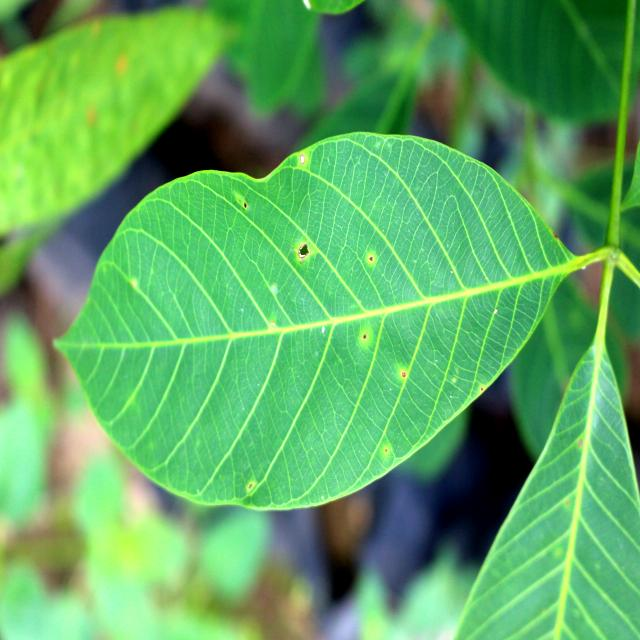Colletotrichum: (402, 372, 406, 377)
